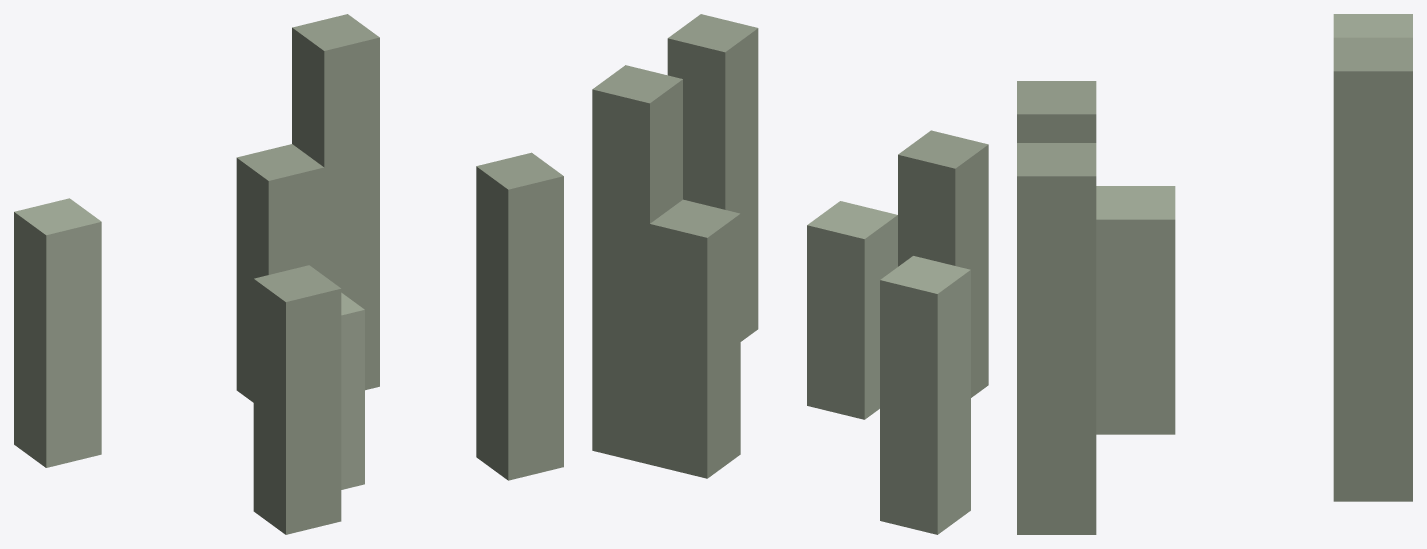
File: liquen_roca_05.glb
3 views of the same model, side by side, from view 1: azimuth 30°, elevation 25°; view 2: azimuth 150°, elevation 25°; view 3: azimuth 270°, elevation 25° (orthographic). The views are drawn at different scales.
Visible parts, largest first — view 1: liquen_roca_05; view 2: liquen_roca_05; view 3: liquen_roca_05.
Part boxes in pixels (x1,y1,x2,y2): liquen_roca_05: [14, 14, 563, 534]; liquen_roca_05: [592, 14, 988, 534]; liquen_roca_05: [1017, 14, 1412, 534].
Size of the model in its own units: 0.7 by 0.6 by 0.5.
